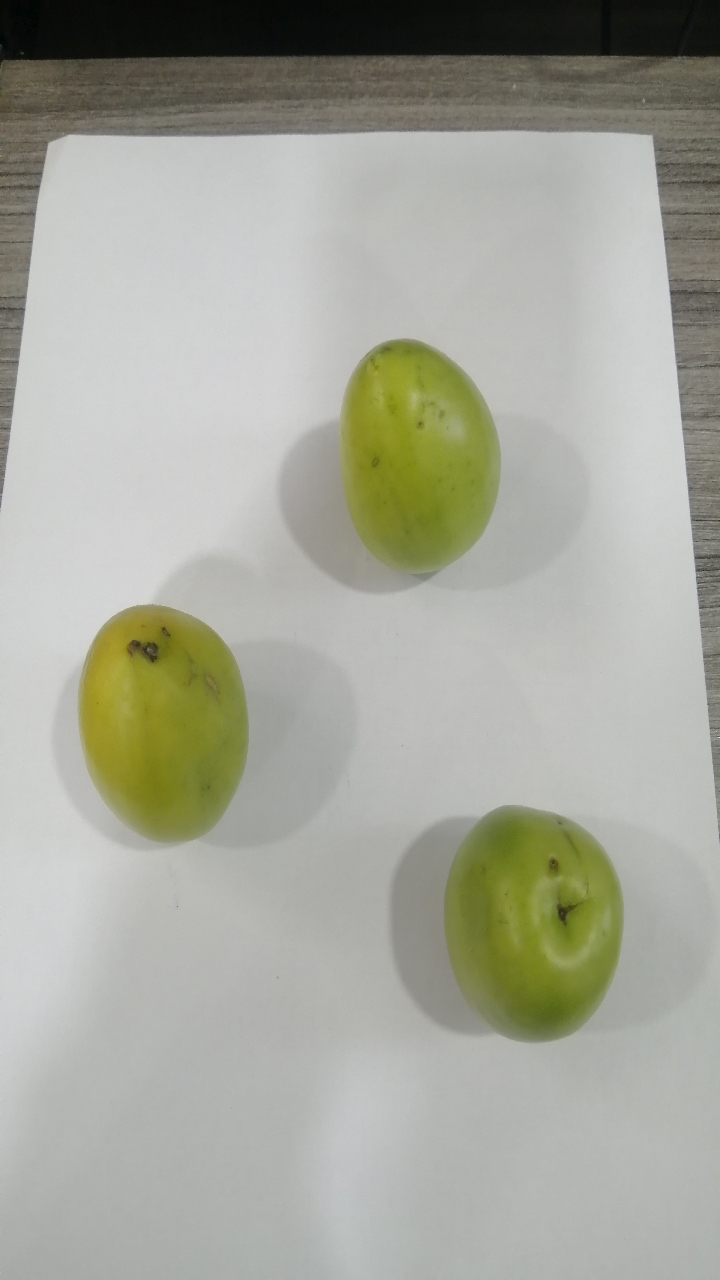tomateVerde: (66, 586, 283, 868), (424, 780, 632, 1069), (328, 317, 526, 603)
